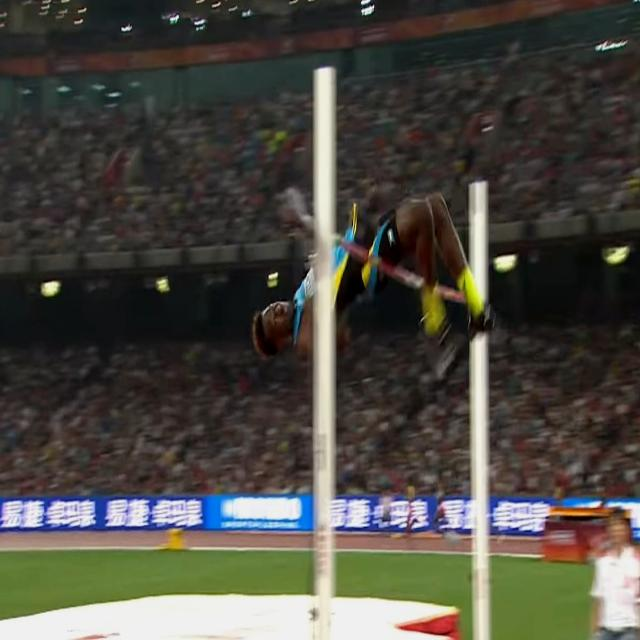jump: (252, 190, 508, 387)
